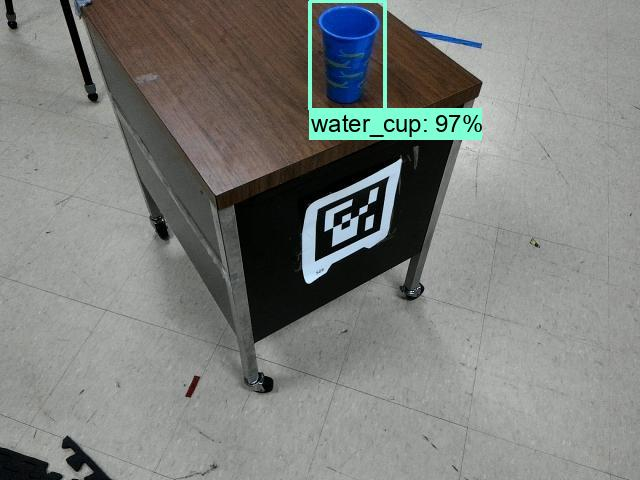water_cup: (304, 1, 385, 108)
